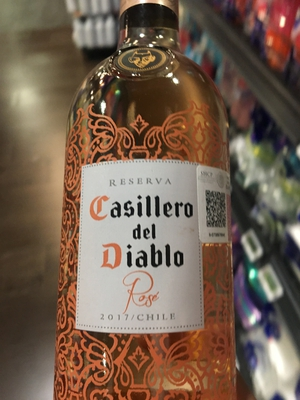casillero del diablo rose: (52, 19, 238, 400)
